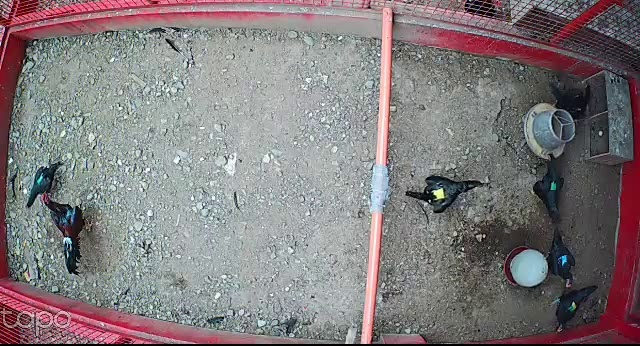Chicken: (399, 172, 484, 215), (529, 150, 567, 224), (548, 281, 599, 336), (544, 227, 579, 291), (547, 80, 593, 125), (25, 159, 65, 209)
Drinker: (502, 246, 549, 288)
Feeder: (526, 101, 576, 164)
Rooster: (41, 186, 93, 274)
Saddle_Color_Blue: (557, 255, 569, 266)
Saddle_Color_Yellow: (431, 187, 444, 201)
Saddle_Color_YellowGreen: (568, 299, 578, 313)
